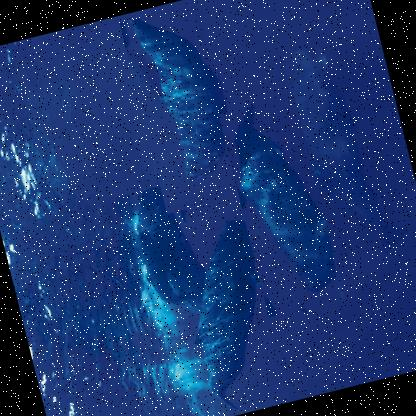sperm_whale: (218, 95, 344, 318), (118, 2, 248, 214), (158, 210, 296, 404)
